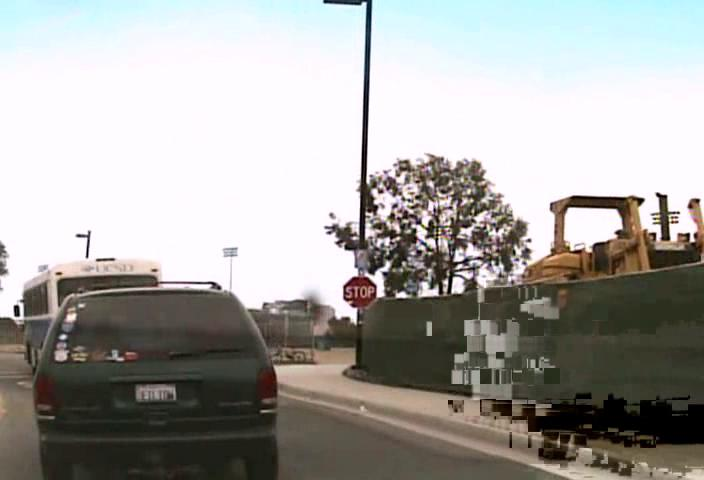stop: (341, 275, 377, 309)
